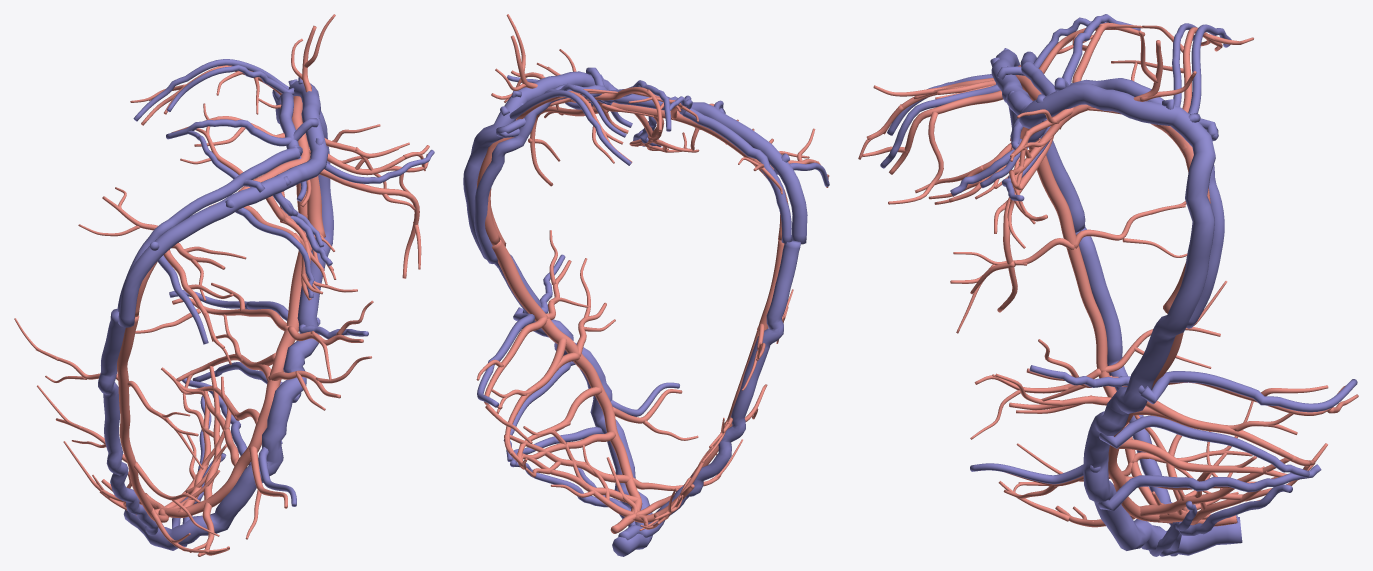
The model's file is vessels_64.glb.
3 renders of one model, left to right at view 1: azimuth 30°, elevation 25°; view 2: azimuth 150°, elevation 25°; view 3: azimuth 270°, elevation 25°, orthographic. The views are drawn at different scales.
Visible parts, largest first — view 1: Renderer Node; view 2: Renderer Node; view 3: Renderer Node.
Boxes of the visible parts, x1=… form: Renderer Node: x1=14, y1=14, x2=434, y2=556; Renderer Node: x1=463, y1=14, x2=829, y2=556; Renderer Node: x1=858, y1=14, x2=1358, y2=556.
Bounding box in the file's own units: 88.95 × 124 × 90.85.
